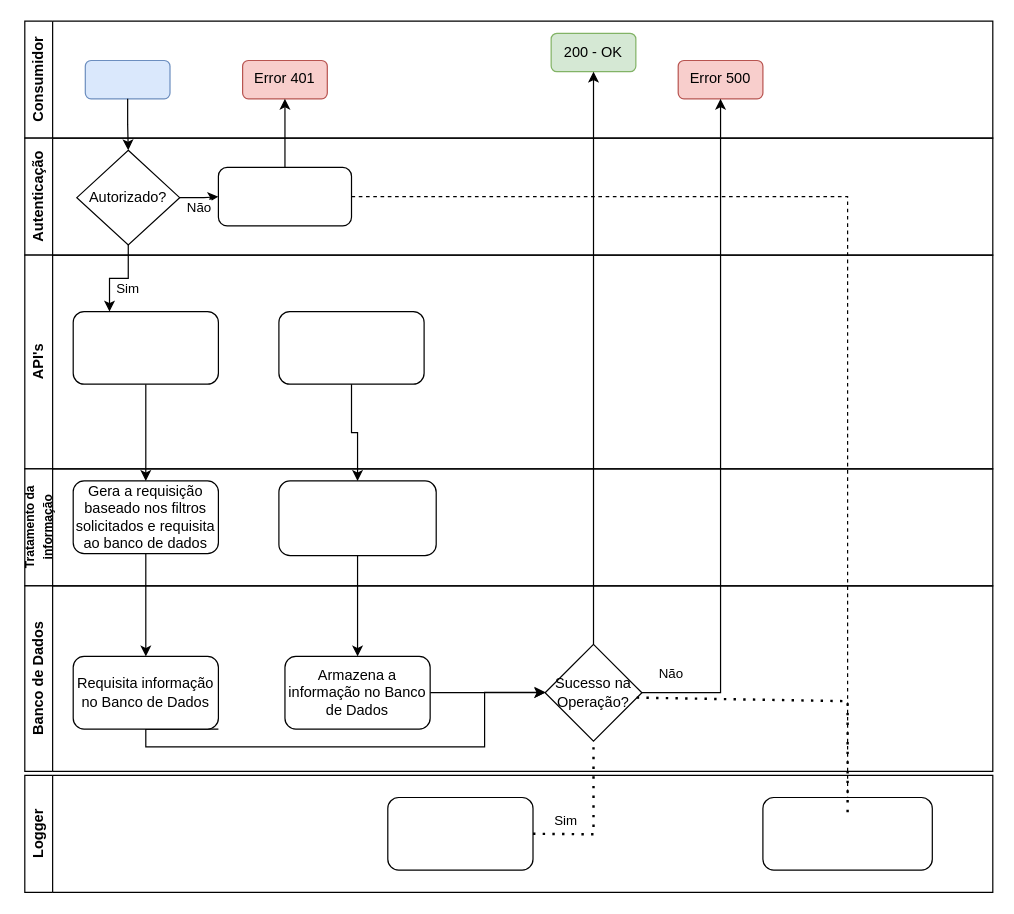
This 1014x914 diagram has some shape labels left out. Here are the shapes that lost their labels. From the top down, the centre of each, then its label:
At point (127, 79): "Request".
At point (284, 196): "Validação invalida / Token Invalido ou expiradp".
At point (145, 347): "GET Requisitar Extrato".
At point (351, 347): "POST Inserir Lançamentos".
At point (357, 518): "Recebe a informação, trata e monta os dados para inserção no Banco de dados".
At point (460, 833): "Registrar todas as requisições".
At point (847, 833): "Registrar todos os erros ocorridos".
